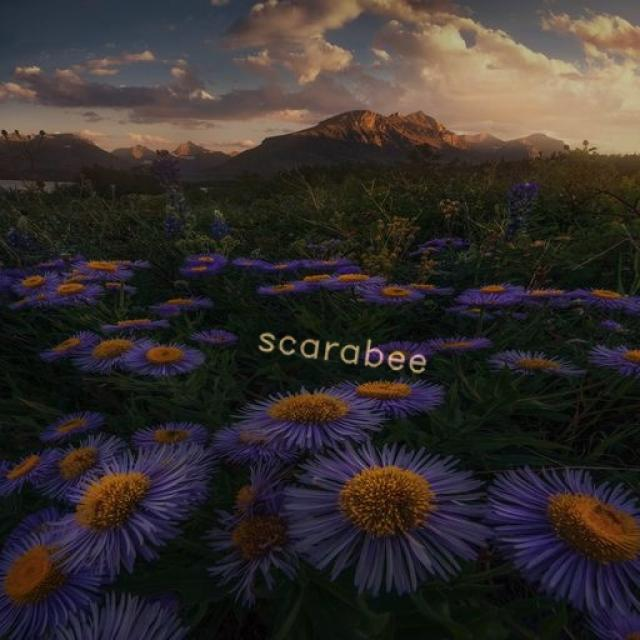watermark: (246, 321, 452, 380)
